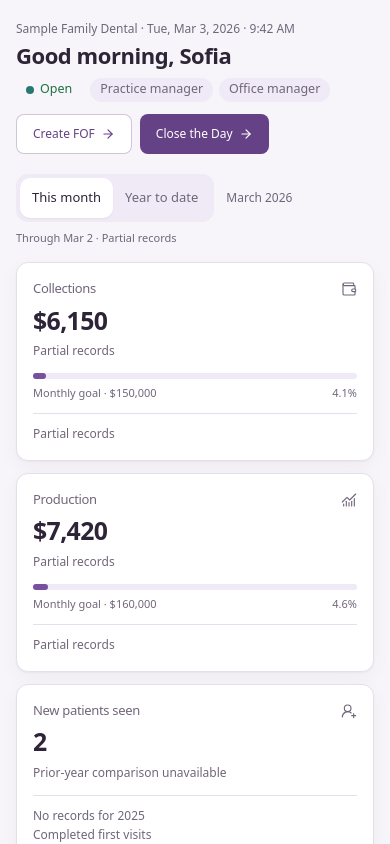
Scenario: the financial picture › the totals and targets follow the chosen month or year
The image size is (390, 844).
expect the text "$7,420" is shown: met, box [33, 514, 107, 548]
Click the button "Year to date": (162, 198) [113, 178, 210, 218]
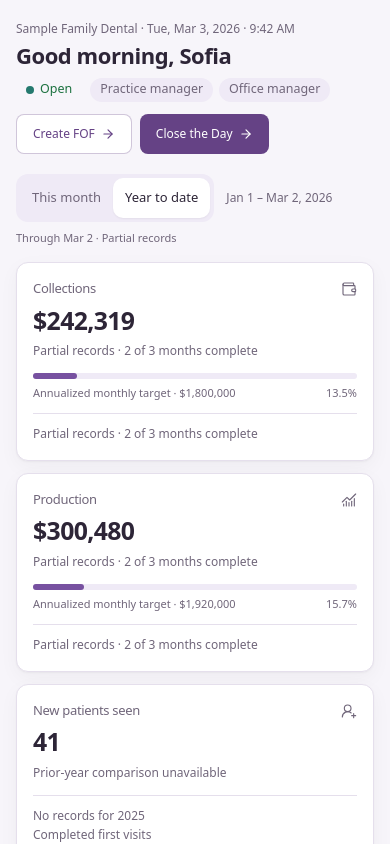
expect the text "Annualized monthly target · $1,920,000" is shown: met, box [33, 596, 236, 612]
